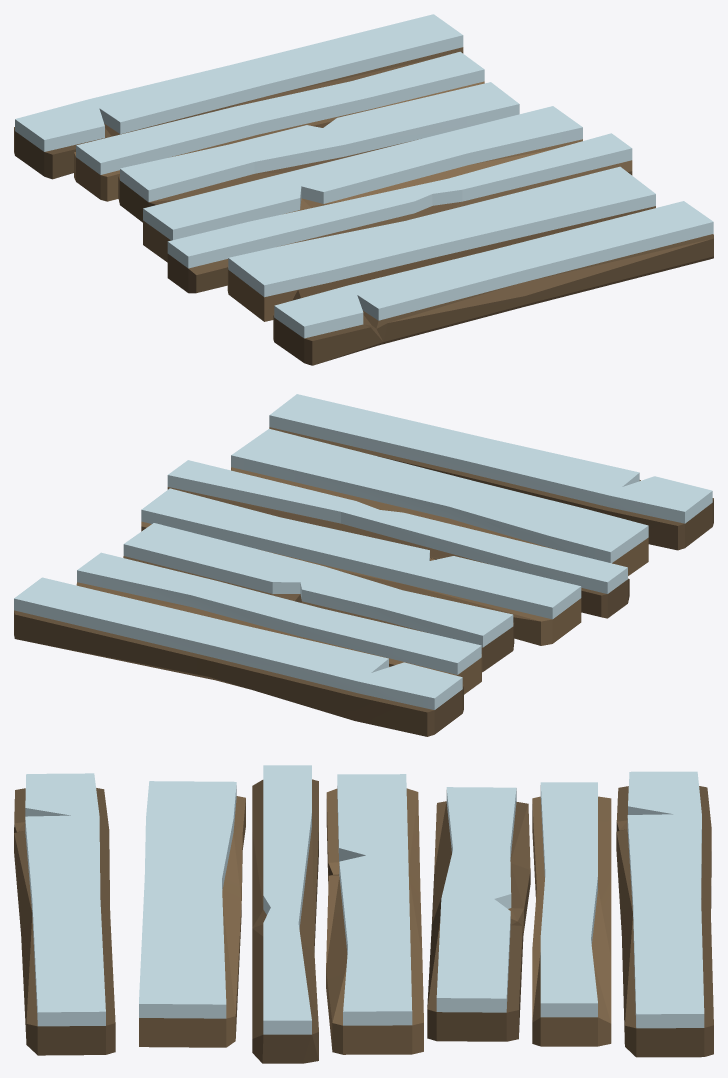
Rendered from Camino_Madera01.glb.
3 renders of one model, top to bottom at view 1: azimuth 30°, elevation 25°; view 2: azimuth 150°, elevation 25°; view 3: azimuth 270°, elevation 25°, orthographic. The views are drawn at different scales.
Parts seen in each view (by area): view 1: SM_Env_Path_Wood_01_Snow; view 2: SM_Env_Path_Wood_01_Snow; view 3: SM_Env_Path_Wood_01_Snow.
Boxes of the visible parts, x1,y1,x2,y2 form: SM_Env_Path_Wood_01_Snow: (14,14,713,365); SM_Env_Path_Wood_01_Snow: (14,394,713,736); SM_Env_Path_Wood_01_Snow: (14,765,713,1063).
Bounding box in the file's own units: 3.05 × 0.2406 × 3.53.
1 material, 1 textured.
